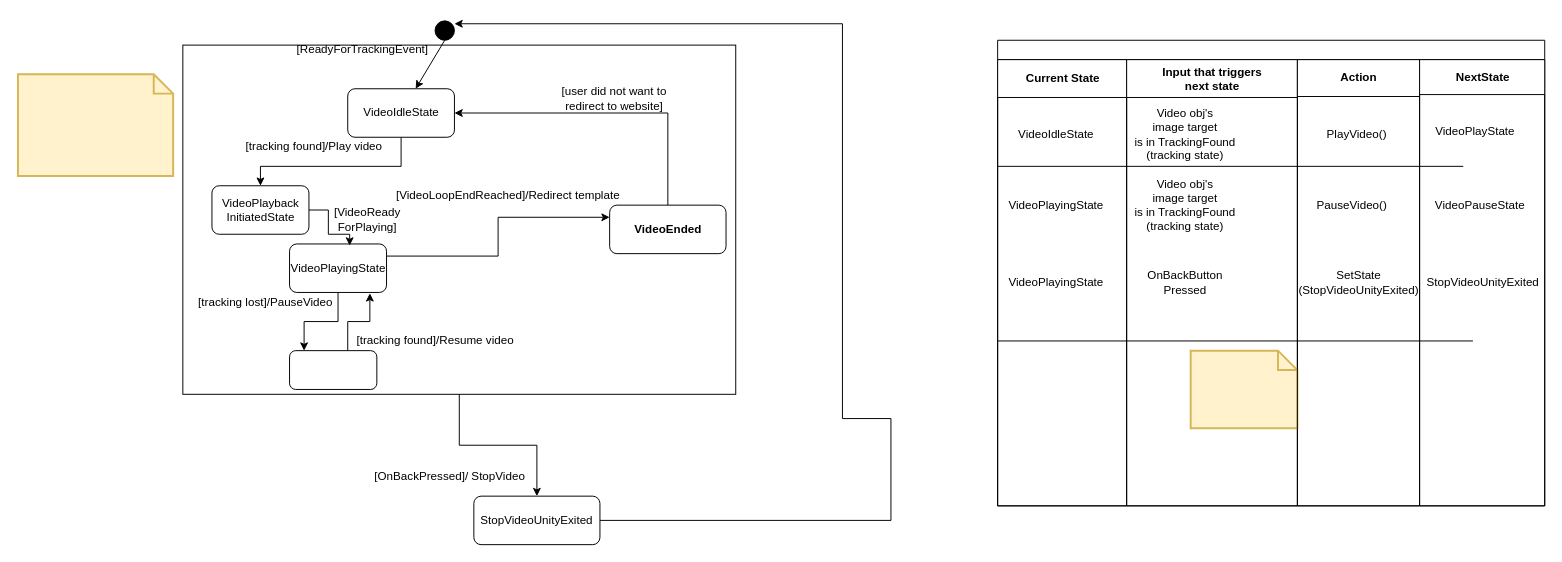
This 1562x562 diagram has some shape labels left out. Here are the shapes that lost their labels. From the top down, the box of each, then its label:
(16, 73, 174, 177): Finite state machine has advantage of using nesting
(997, 39, 1545, 506): State Transition Table For ARVideoObj
(289, 350, 377, 389): VideoPaused
(1189, 349, 1298, 429): Fill this later
